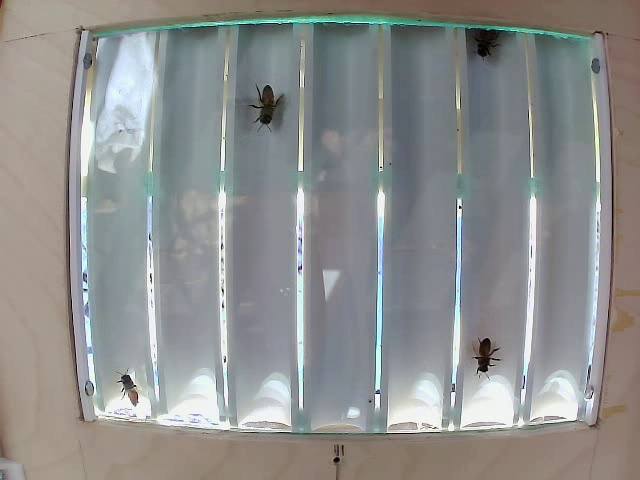bee: (242, 69, 296, 136), (457, 320, 509, 369)
